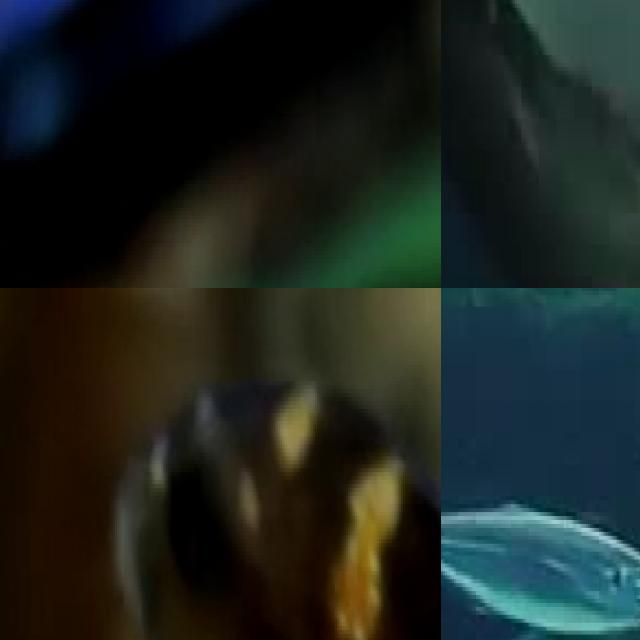fish: (0, 0, 441, 288), (97, 326, 441, 640)
